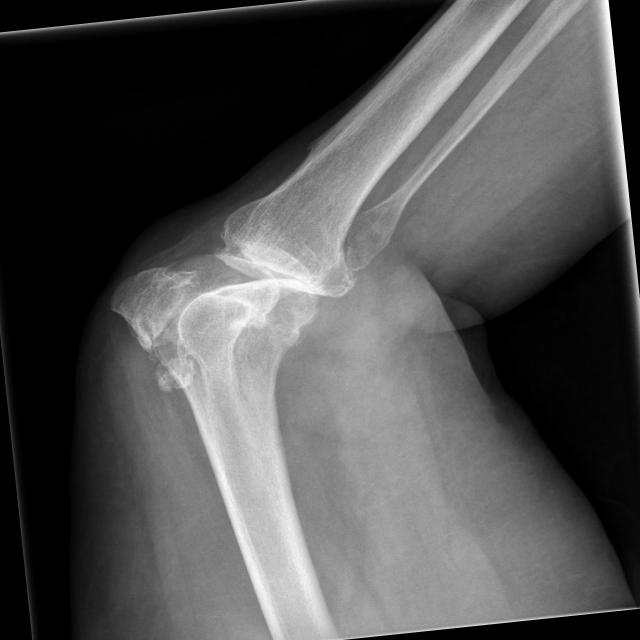Knee: (95, 195, 348, 386)
